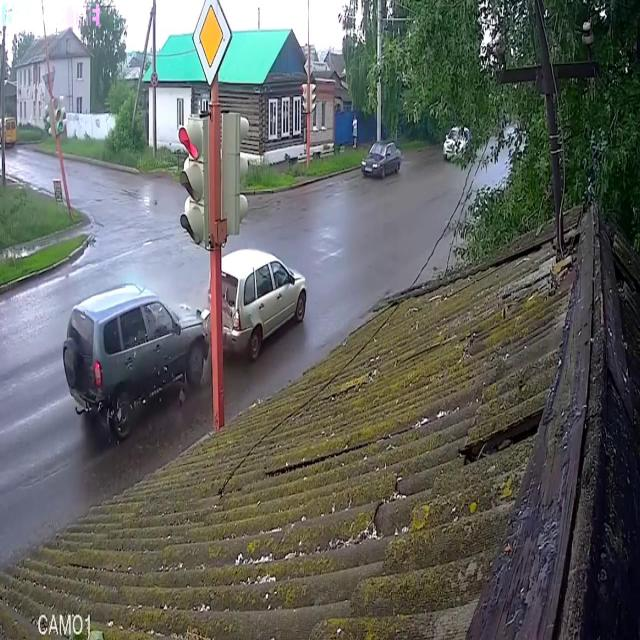accident: (58, 245, 312, 451)
